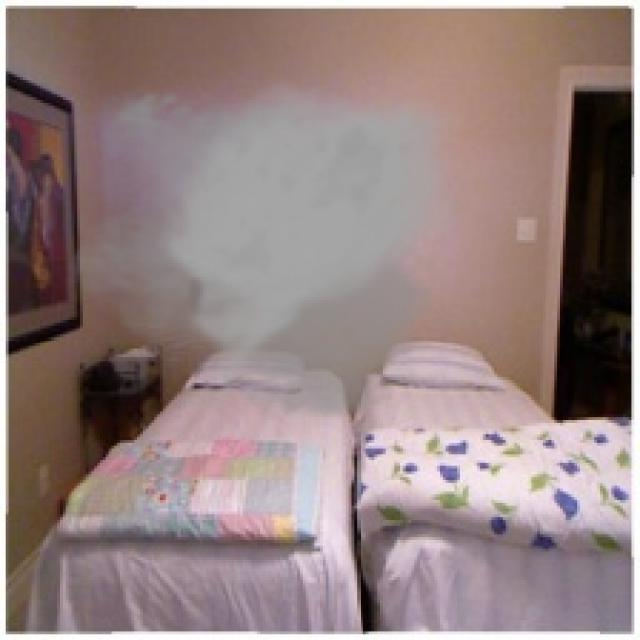smoke: (69, 80, 468, 423)
